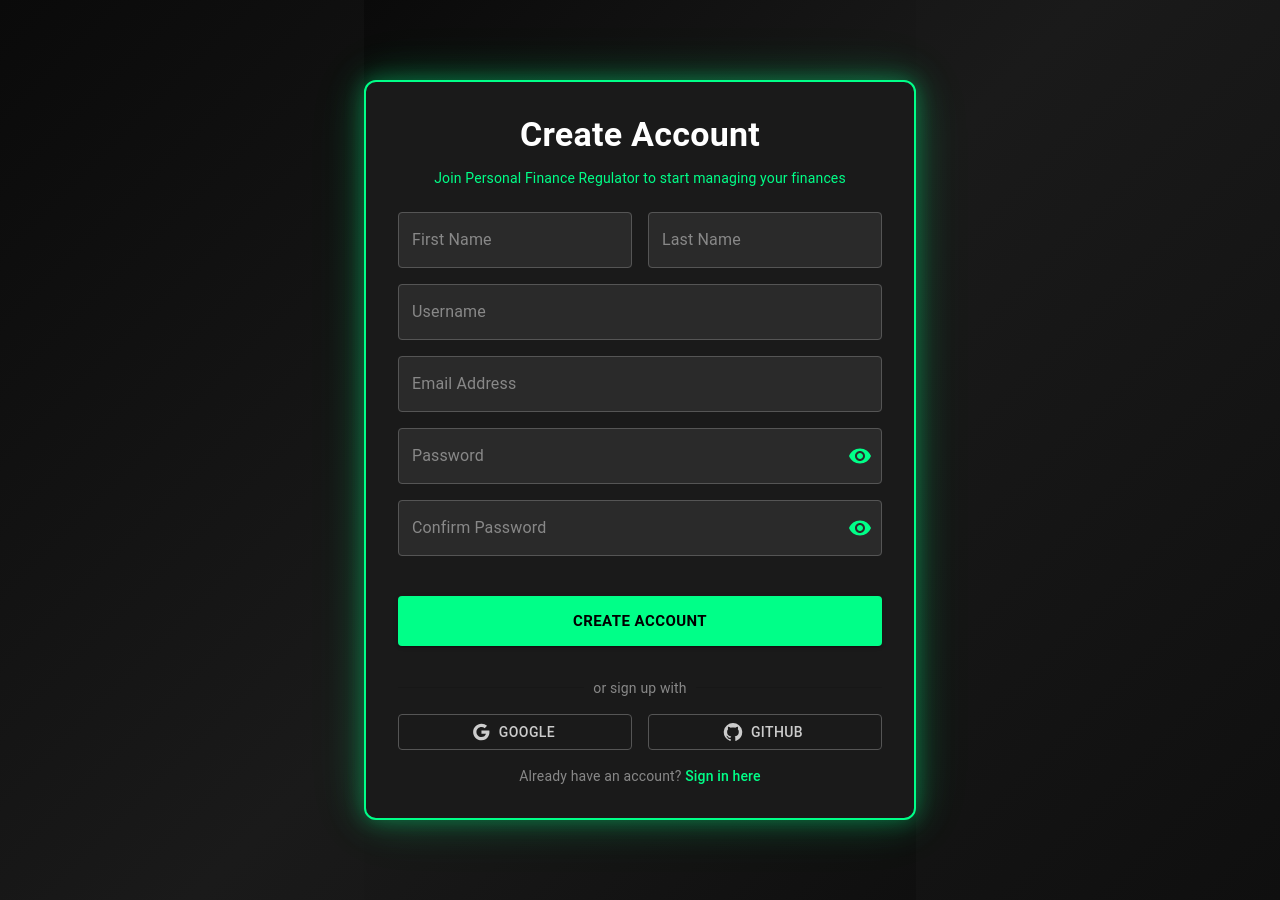
Test: Authentication Flow › Sign Up Functionality › should validate password requirements
Type "weakpassword" into the password field labelled "Password". click: (615, 456)
box: [398, 428, 832, 484]
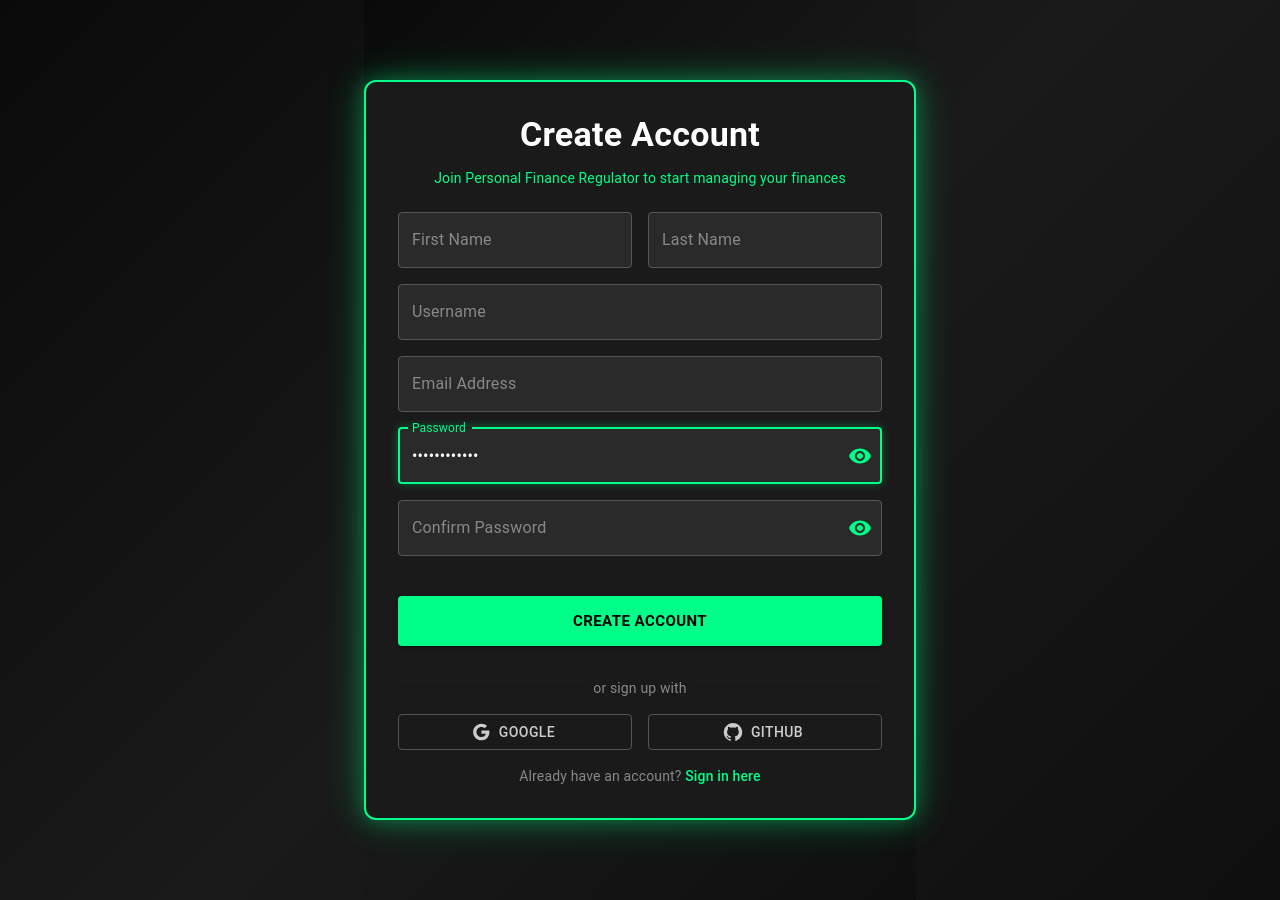
Click the button "Create Account". click: click(640, 621)
box: [398, 596, 882, 646]
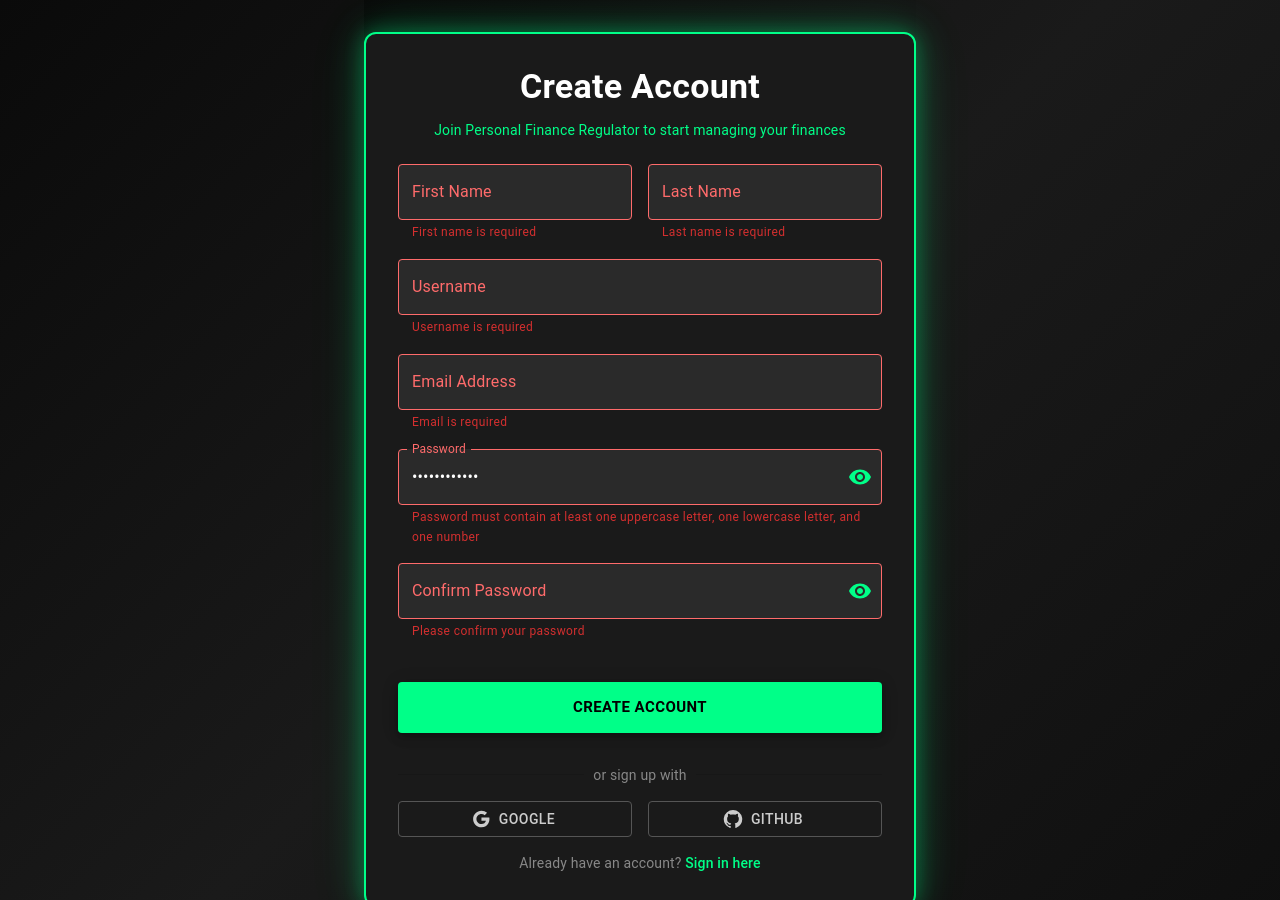
Check: the text "password must contain at least one uppercase letter, one lowercase letter, and one number" is shown, box [412, 510, 861, 544]
